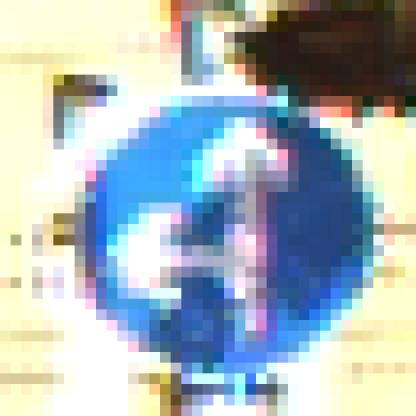Straight or Left: (65, 65, 364, 364)
